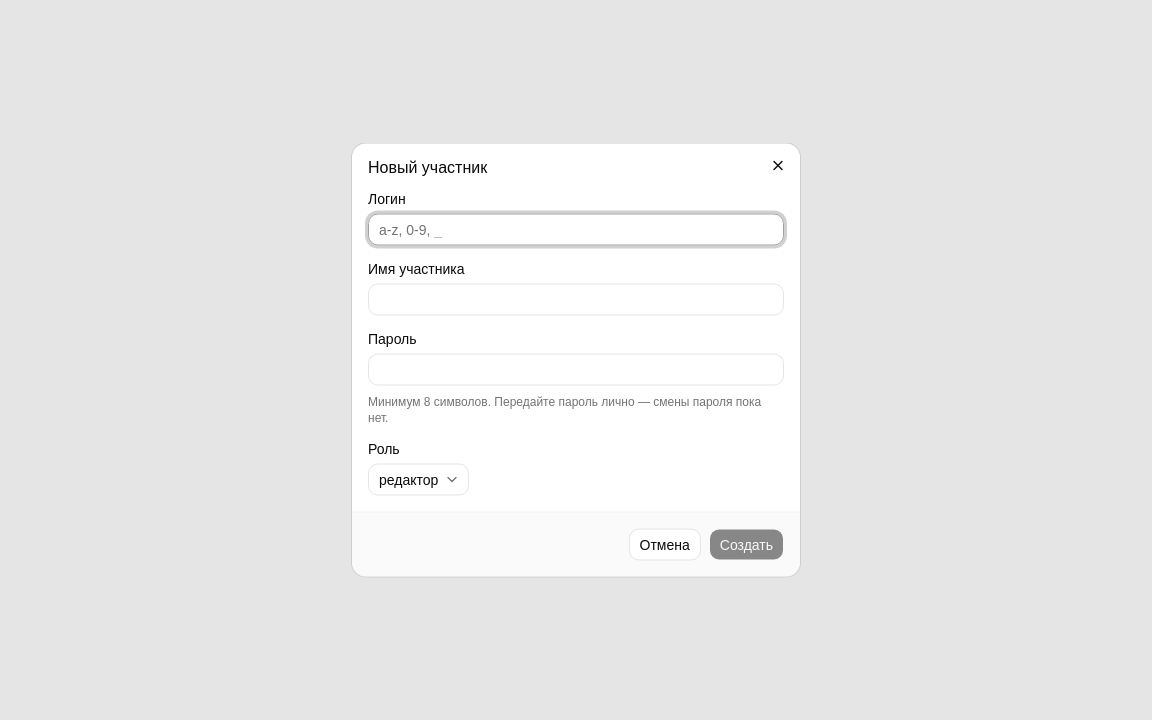
Scenario: MemberDialog — which refusal it recognises › names the taken login on a conflict
Type "maria" into the field labelled "Логин" at (576, 230), box [368,214,784,246]
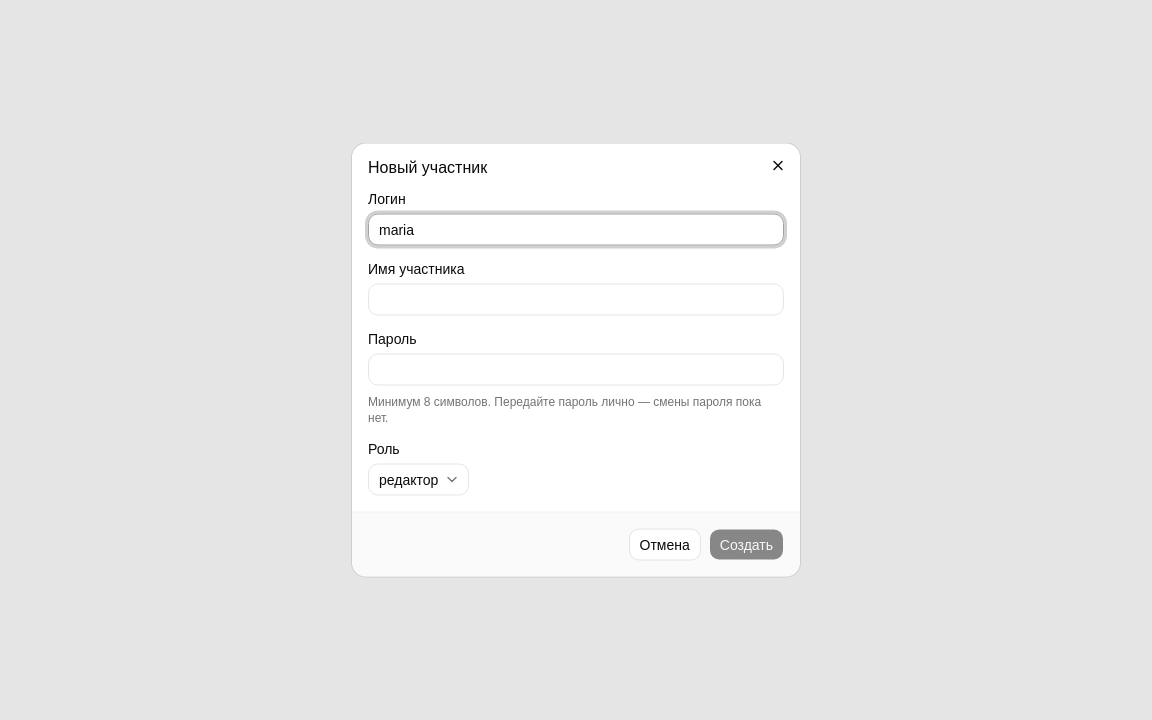
Type "Мария" into the field labelled "Имя участника" at (576, 300), box [368,284,784,316]
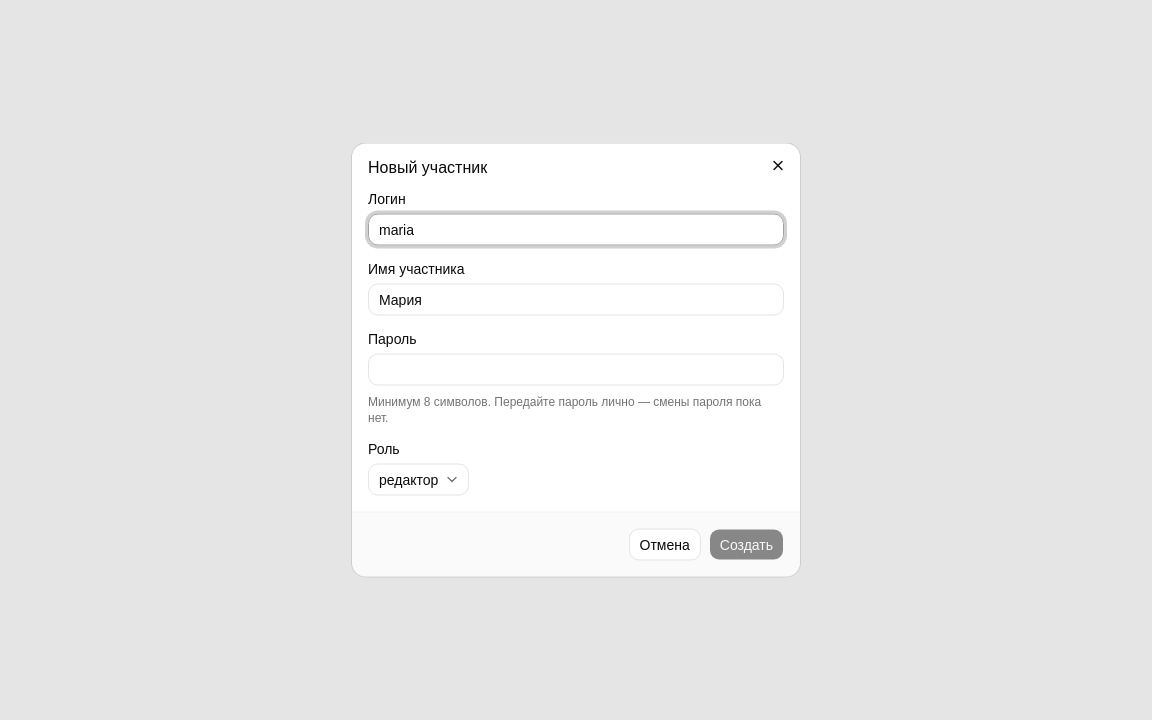
Type "12345678" into the password field labelled "Пароль" at (576, 370), box [368,354,784,386]
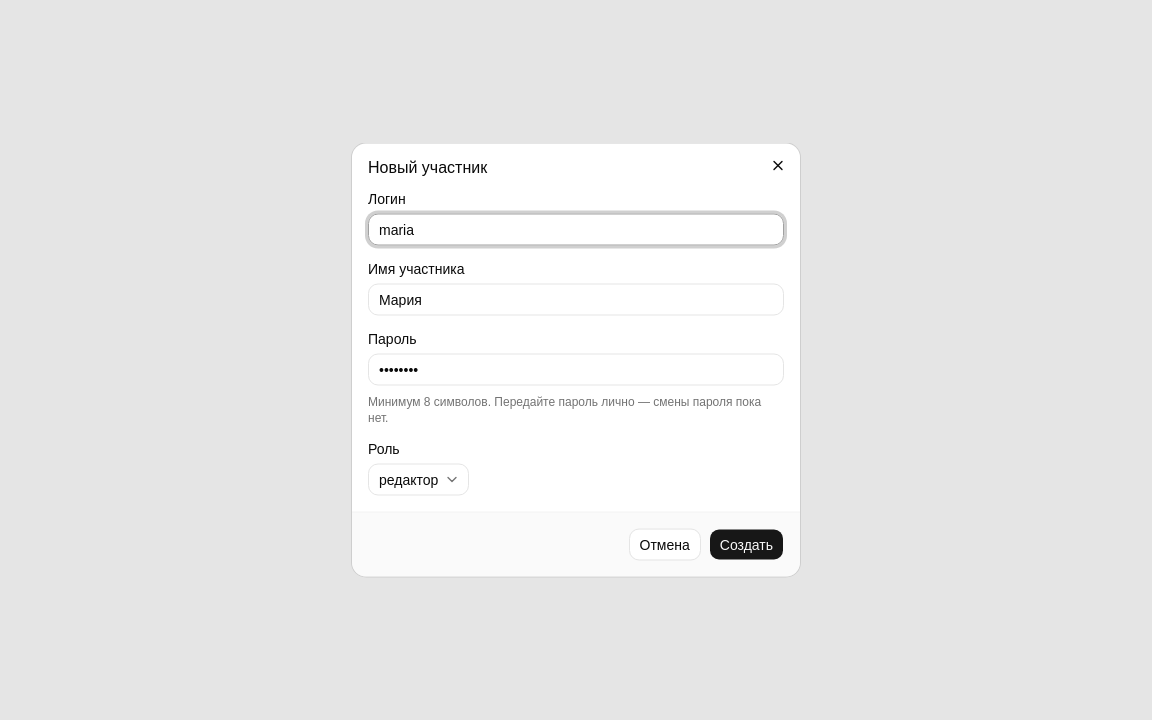
Click the button "Создать" at (746, 544), box [709,528,784,560]
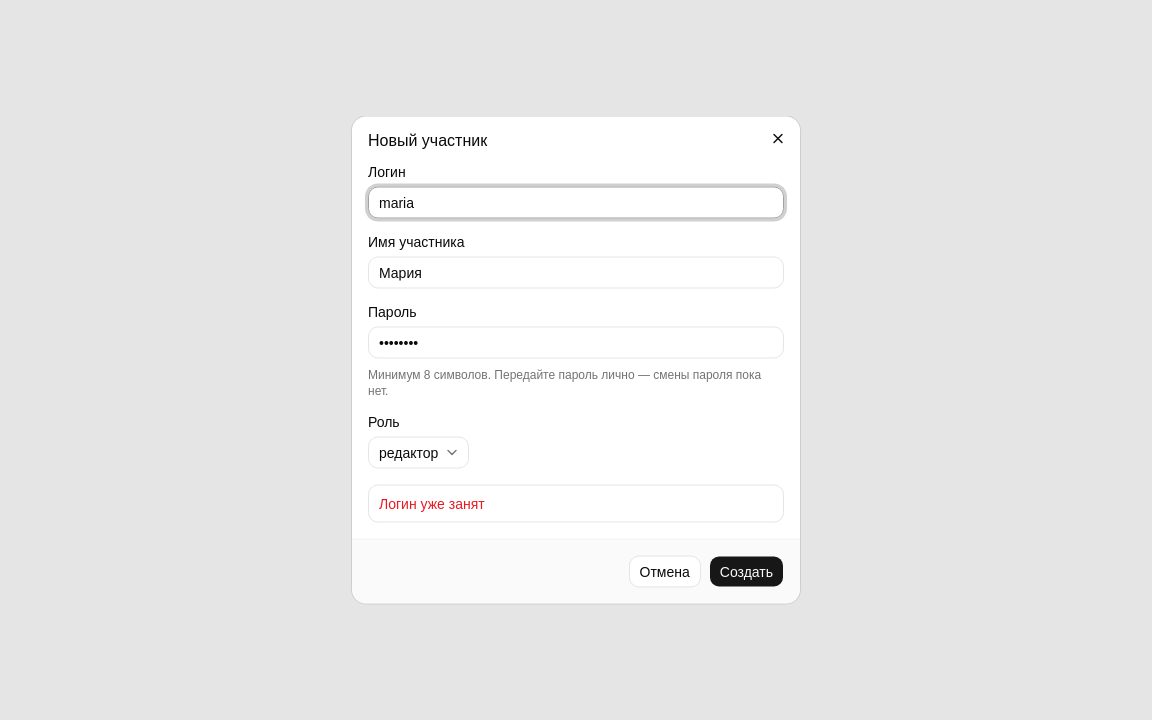
Expected: the text "Логин уже занят" is shown, [379,496,485,512]
